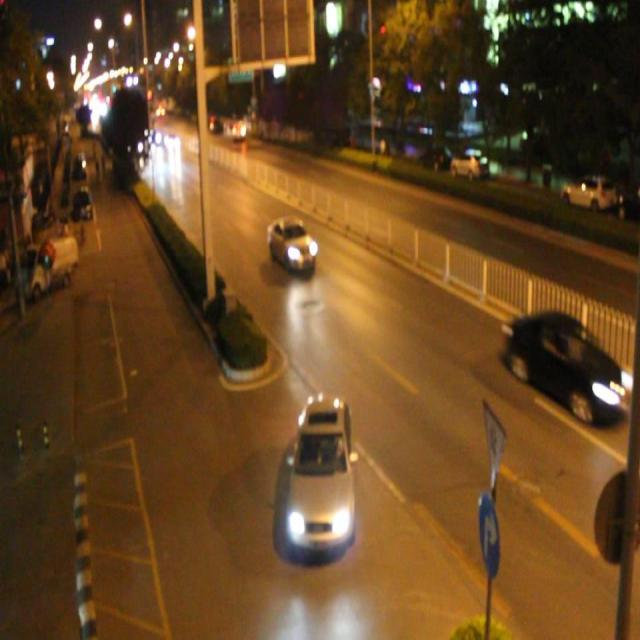car: (507, 308, 619, 418), (286, 392, 353, 554), (267, 215, 316, 272), (165, 132, 180, 152), (147, 127, 162, 147), (232, 120, 246, 140)
